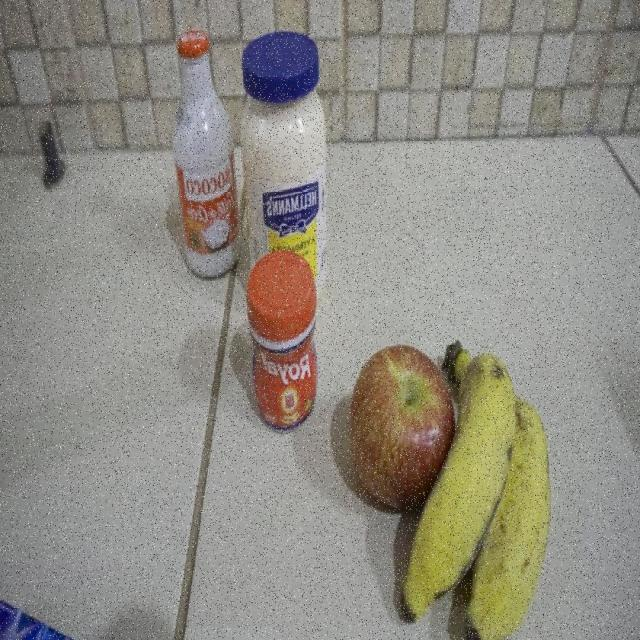Apple: (348, 340, 451, 512)
Banana: (456, 332, 553, 640)
CoconutMilk: (172, 25, 238, 278)
Mayonnaise: (242, 28, 332, 243)
Yeast: (248, 251, 320, 436)
